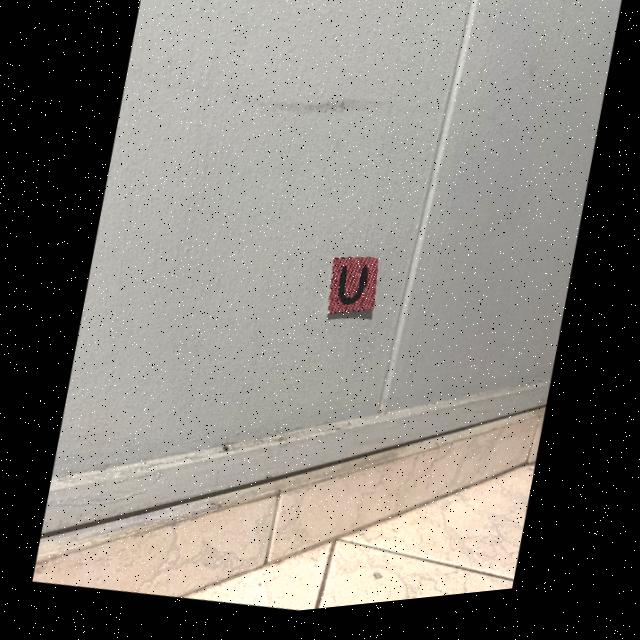U: (337, 274, 366, 312)
